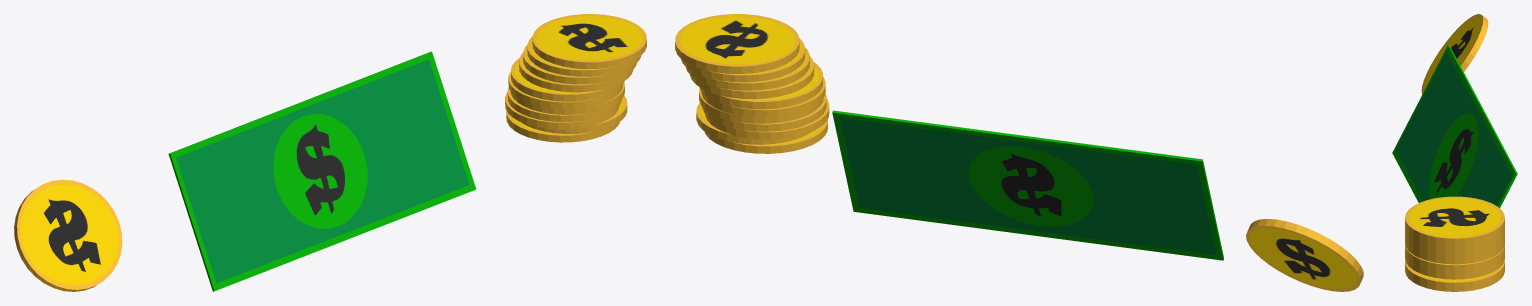
Rendered from Dinheiro.fbx.
3 renders of one model, left to right at view 1: azimuth 30°, elevation 25°; view 2: azimuth 150°, elevation 25°; view 3: azimuth 270°, elevation 25°, orthographic. The views are drawn at different scales.
Parts seen in each view (by area): view 1: Cube, Cube.001, Cube.012; view 2: Cube, Cube.001, Cube.012; view 3: Cube, Cube.001, Cube.012.
Part boxes in pixels (x1,y1,x2,y2): Cube: (168,51,476,291); Cube.001: (505,14,646,142); Cube.012: (14,179,122,291); Cube: (832,110,1223,260); Cube.001: (675,14,829,153); Cube.012: (1246,219,1363,291); Cube: (1392,45,1517,208); Cube.001: (1405,196,1504,291); Cube.012: (1421,14,1488,94).
Bounding box in the file's own units: 833 × 164 × 167.
